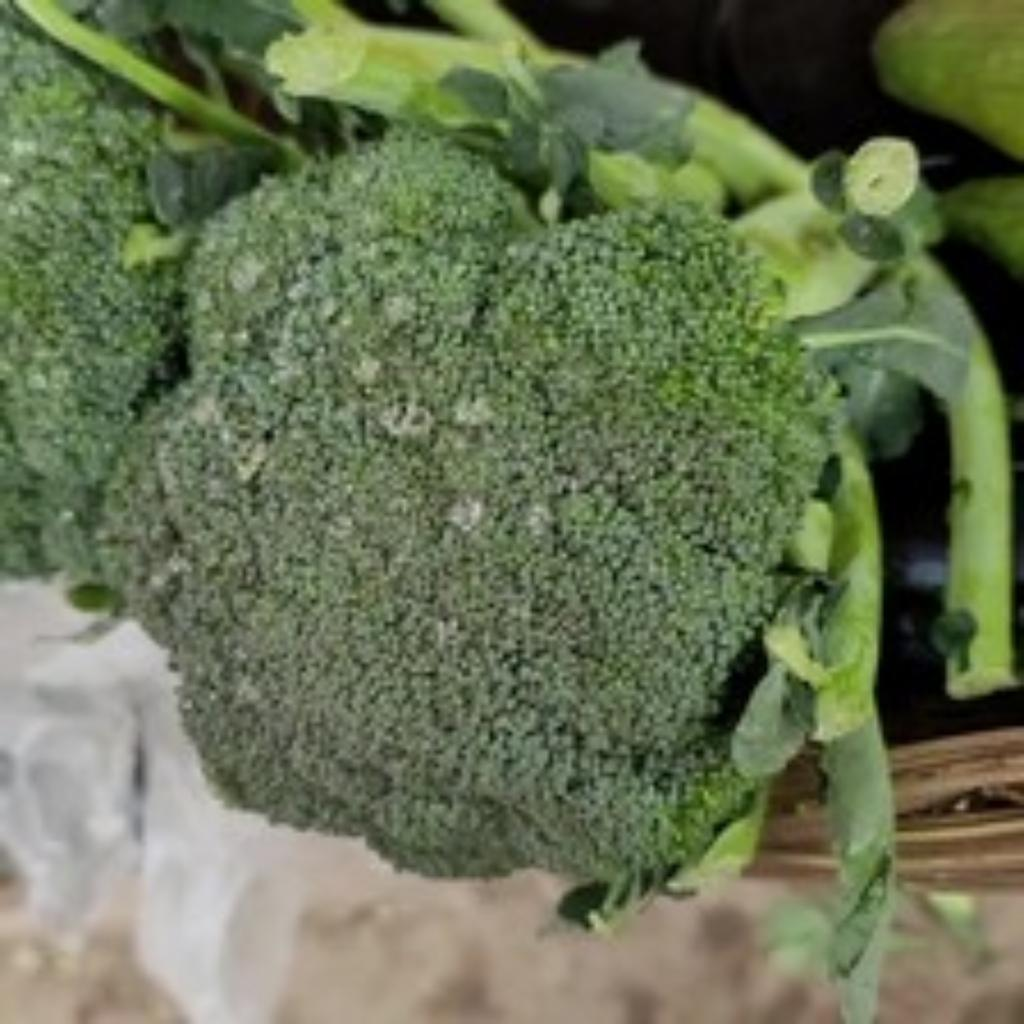Broccoli: (128, 132, 830, 877), (130, 132, 830, 875), (0, 6, 172, 569), (0, 10, 172, 567)
